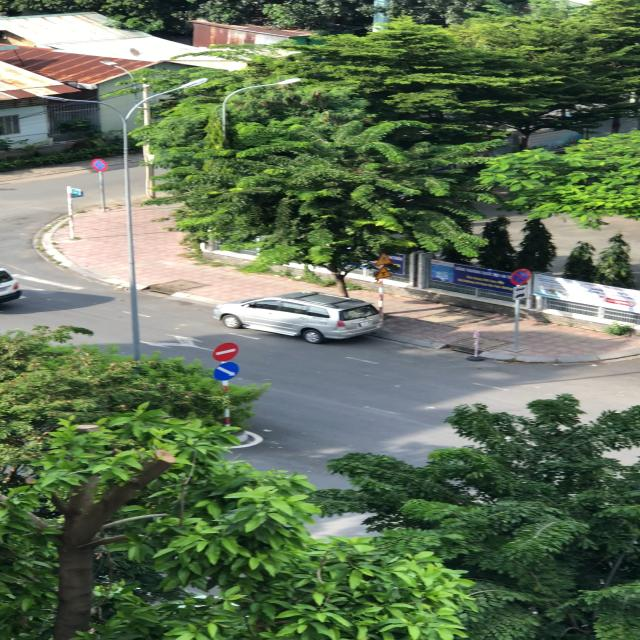Bien bao cam di nguoc chieu: (209, 342, 245, 361)
Bien bao cam dung xe va do xe: (509, 268, 535, 286)
Bien bao duong giao nhau: (370, 265, 396, 281)
Bien bao duong nguoi di bo cat ngang: (371, 251, 397, 265)
Bien bao huong phai di vong chuong ngai vat: (209, 361, 243, 381)
